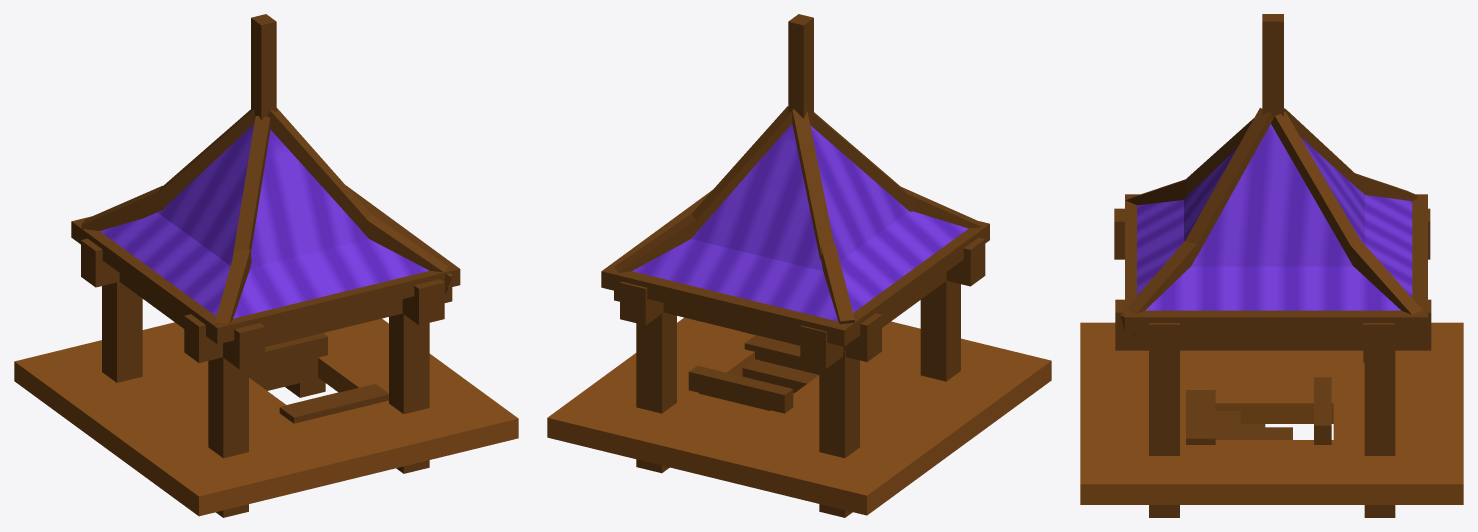
File: archertower.fbx
3 views of the same model, side by side, from view 1: azimuth 30°, elevation 25°; view 2: azimuth 150°, elevation 25°; view 3: azimuth 270°, elevation 25° (orthographic). The views are drawn at different scales.
Visible parts, largest first — view 1: polySurface76; view 2: polySurface76; view 3: polySurface76.
Part boxes in pixels (x1=…): polySurface76: x1=14, y1=14, x2=518, y2=517; polySurface76: x1=547, y1=14, x2=1051, y2=517; polySurface76: x1=1080, y1=14, x2=1463, y2=517.
Bounding box in the file's own units: 91.53 × 118 × 91.53.
Materials: 1 (1 with a texture image).
